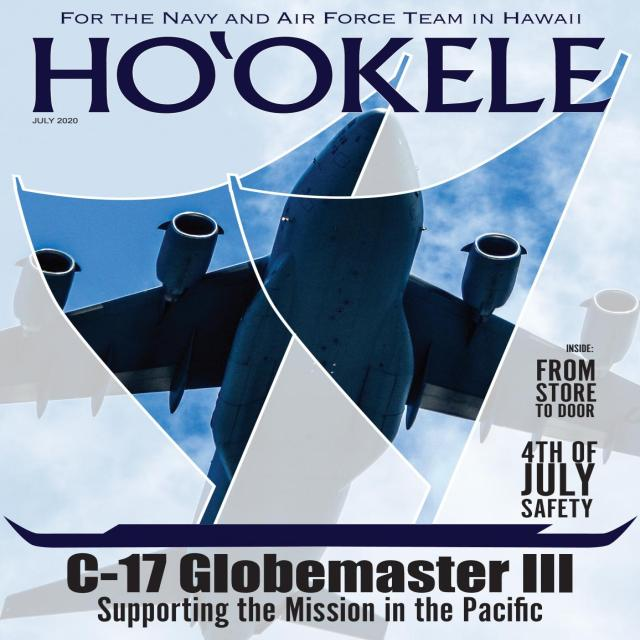MIL_Plane: (0, 107, 640, 639)
